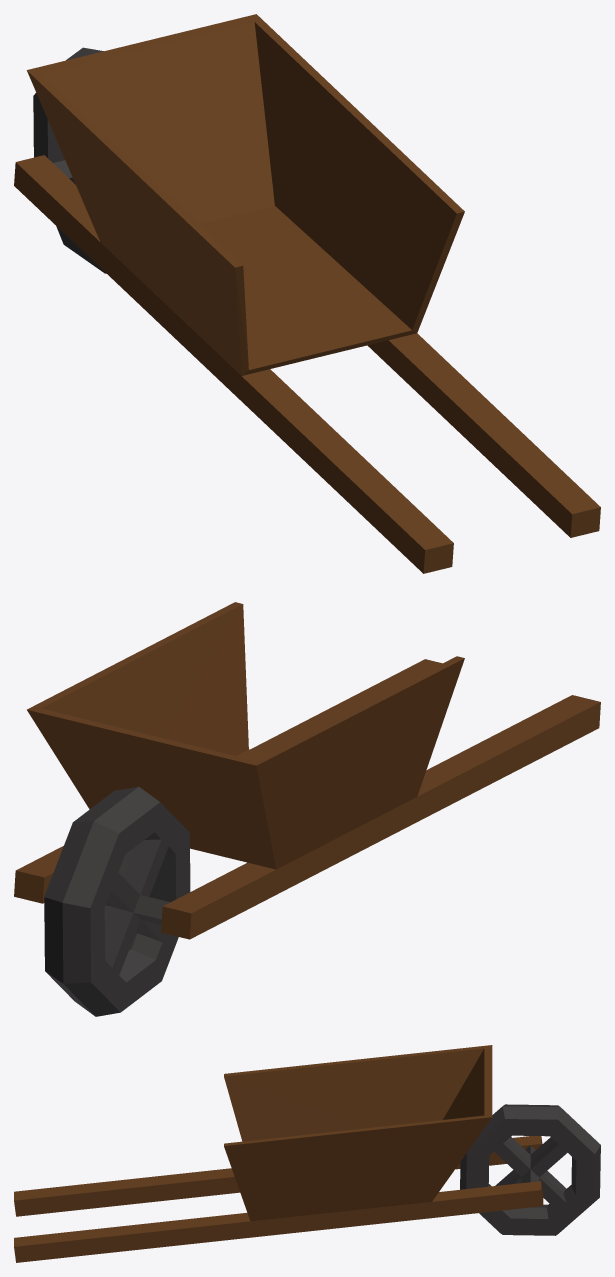
The model's file is Pushcart.fbx.
The picture shows the model from 3 angles, top to bottom: view 1: azimuth 30°, elevation 25°; view 2: azimuth 150°, elevation 25°; view 3: azimuth 270°, elevation 25°; orthographic projection. The views are drawn at different scales.
Parts seen in each view (by area): view 1: Torus; view 2: Torus; view 3: Torus.
Part boxes in pixels (x1,y1,x2,y2): Torus: (14, 14, 600, 573); Torus: (14, 602, 600, 1016); Torus: (14, 1045, 600, 1262).
Size of the model in its own units: 65.78 by 65.71 by 226.
